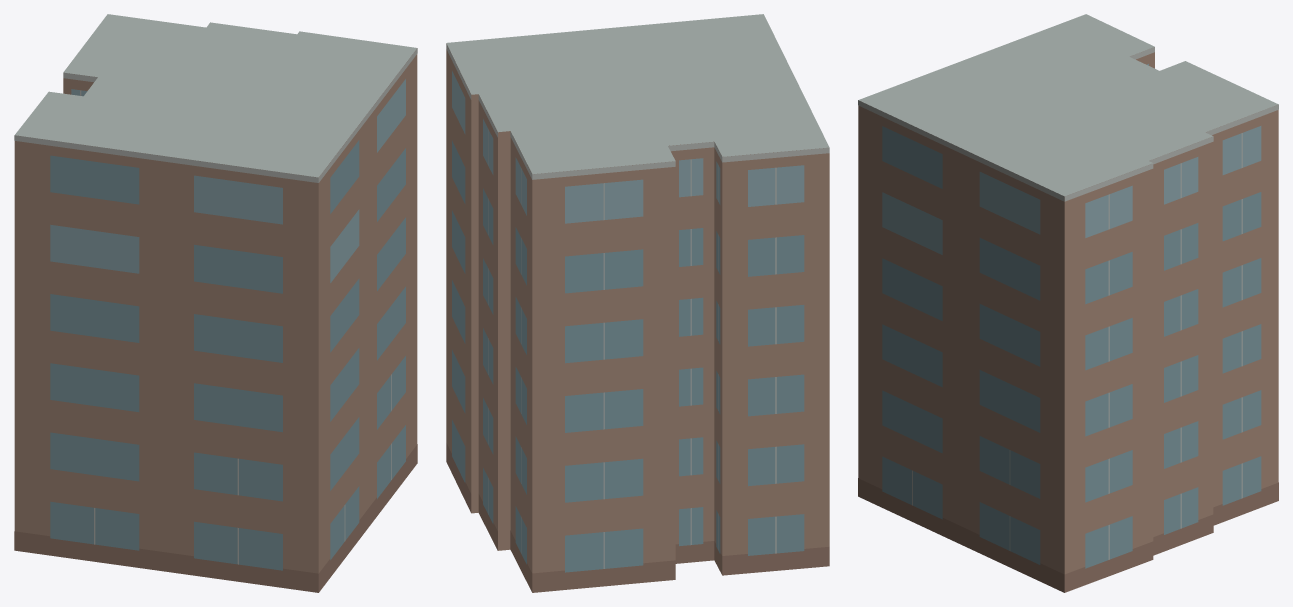
Rendered from survey-upis-32750083.glb.
3 renders of one model, left to right at view 1: azimuth 30°, elevation 25°; view 2: azimuth 150°, elevation 25°; view 3: azimuth 270°, elevation 25°, orthographic. The views are drawn at different scales.
Parts seen in each view (by area): view 1: survey-upis-32750083.tmp; view 2: survey-upis-32750083.tmp; view 3: survey-upis-32750083.tmp.
Part boxes in pixels (box(x1,y1,x2,y2)): survey-upis-32750083.tmp: box(14, 14, 417, 592); survey-upis-32750083.tmp: box(446, 14, 829, 592); survey-upis-32750083.tmp: box(858, 14, 1278, 592).
Bounding box in the file's own units: 17.87 × 18.1 × 17.41.
